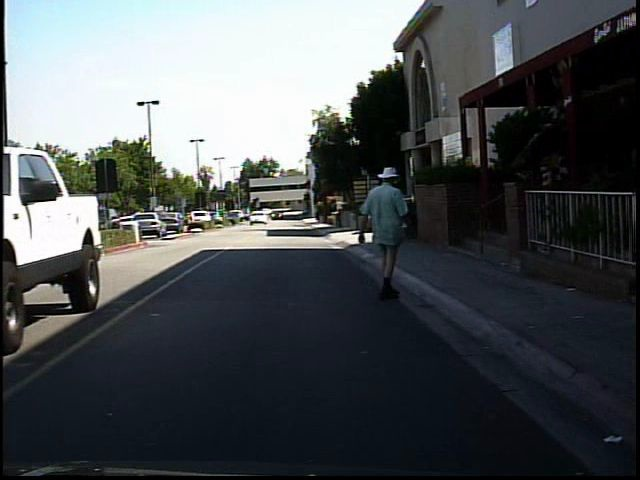person: (356, 159, 416, 304), (45, 197, 73, 267), (184, 204, 199, 229)
